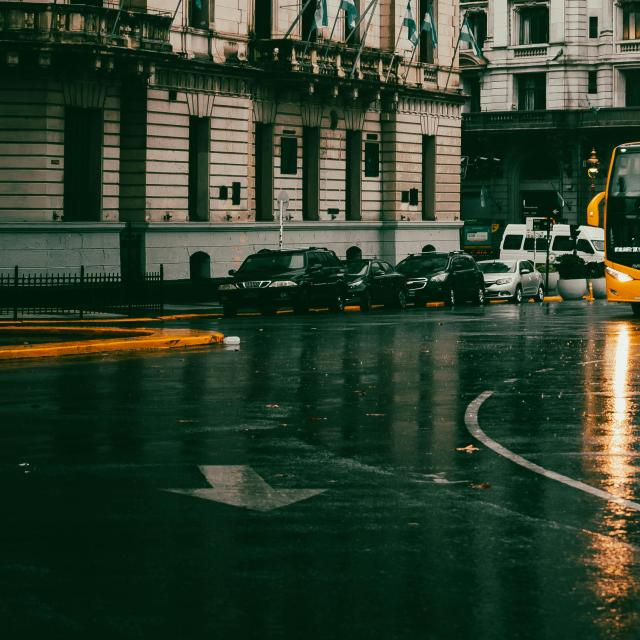bus: (588, 137, 640, 308)
car: (218, 247, 346, 313), (398, 252, 487, 307), (345, 258, 407, 313), (482, 258, 546, 302)
